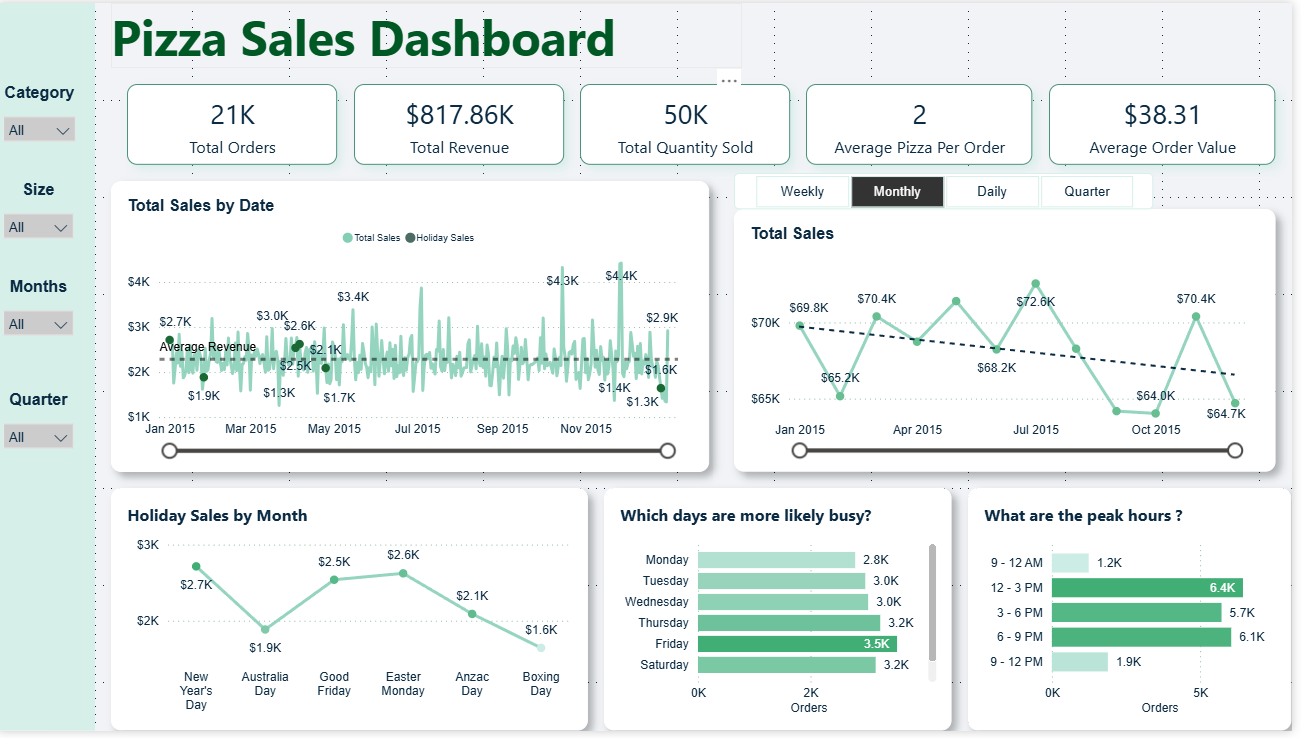

The dashboard page shown, as its layout file describes it:
{"tool":"powerbi","page":{"name":"Sales Analysis","canvas":[1280,720],"ordinal":0},"visuals":[{"type":"shape","box":[0,0,96,720],"z":0,"group":"g2"},{"type":"card","fields":{"Values":["Measure.Total Orders"]},"box":[128,80,208,80],"z":0},{"type":"lineChart","title":"Total Sales ","fields":{"Category":["Dim_Date.Monthly Dates"],"Y":["Measure.Total Revenue"]},"box":[728,203.5,536,260.5],"z":0,"group":"g1"},{"type":"slicer","title":"Category","fields":{"Values":["DimPizza.category"]},"box":[0,80,82.3,64],"z":1000,"group":"g2"},{"type":"slicer","fields":{"Values":["Parameter.Parameter"]},"box":[728,168,415.4,35.5],"z":1000,"group":"g1"},{"type":"lineChart","title":"Holiday Sales by Month","fields":{"Category":["Dim_Date.Holiday2015","Dim_Date.HolidayDate"],"Y":["Dim_Date.Holiday Sales"]},"box":[112,480,472,240],"z":1000},{"type":"card","fields":{"Values":["Measure.Total Revenue"]},"box":[352,80,208,80],"z":2000},{"type":"slicer","title":"Months","fields":{"Values":["Dim_Date.Month Name"]},"box":[0,272,80,80],"z":2000,"group":"g2"},{"type":"card","fields":{"Values":["Measure.Total Quantity Sold"]},"box":[576,80,208,80],"z":3000},{"type":"slicer","title":"Quarter","fields":{"Values":["Dim_Date.Quater"]},"box":[0,384,80,128],"z":3000,"group":"g2"},{"type":"card","fields":{"Values":["Measure.Average Pizza Per Order"]},"box":[800,80,224,80],"z":4000},{"type":"slicer","title":"Size","fields":{"Values":["DimPizza.size"]},"box":[0,176,80,64],"z":4000,"group":"g2"},{"type":"card","fields":{"Values":["Measure.Average Order Value"]},"box":[1040,80,224,80],"z":5000},{"type":"textbox","box":[112,0,624,64],"z":6000},{"type":"clusteredBarChart","title":"Which days are more likely busy?","fields":{"Category":["Dim_Date.DayofWeek"],"Y":["Measure.Total Orders"]},"box":[600,480,344,240],"z":7000},{"type":"group","id":"g1","title":"Group 1","box":[728,168,536,296],"z":8000},{"type":"clusteredBarChart","title":"What are the peak hours ?","fields":{"Y":["Measure.Total Orders"],"Category":["Pizza_Sales.Time Slot"]},"box":[960,480,320,240],"z":9000},{"type":"group","id":"g2","title":"Group 1","box":[0,0,96,720],"z":12000},{"type":"lineChart","title":"Total Sales by Date","fields":{"Y":["Measure.Total Revenue","Dim_Date.Holiday Sales"],"Category":["Dim_Date.Date"]},"box":[112,176,592,288],"z":13000}]}

Visuals, with their boxes in screenshot pixels (x1, y1, x2, y2), scaled from the page's 1280x720 canvas onto the 1301x738 screenshot:
shape: Rect(0, 0, 98, 737)
card - Measure.Total Orders: Rect(130, 82, 342, 164)
"Total Sales " lineChart: Rect(740, 209, 1285, 476)
"Category" slicer: Rect(0, 82, 84, 148)
slicer - Parameter.Parameter: Rect(740, 172, 1162, 209)
"Holiday Sales by Month" lineChart: Rect(114, 492, 594, 737)
card - Measure.Total Revenue: Rect(358, 82, 569, 164)
"Months" slicer: Rect(0, 279, 81, 361)
card - Measure.Total Quantity Sold: Rect(585, 82, 797, 164)
"Quarter" slicer: Rect(0, 394, 81, 525)
card - Measure.Average Pizza Per Order: Rect(813, 82, 1041, 164)
"Size" slicer: Rect(0, 180, 81, 246)
card - Measure.Average Order Value: Rect(1057, 82, 1285, 164)
textbox: Rect(114, 0, 748, 66)
"Which days are more likely busy?" clusteredBarChart: Rect(610, 492, 959, 737)
"Group 1" group: Rect(740, 172, 1285, 476)
"What are the peak hours ?" clusteredBarChart: Rect(976, 492, 1300, 737)
"Group 1" group: Rect(0, 0, 98, 737)
"Total Sales by Date" lineChart: Rect(114, 180, 716, 476)
